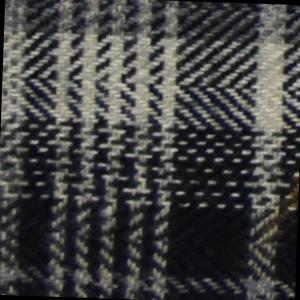Oil Stain: (253, 177, 300, 255)
